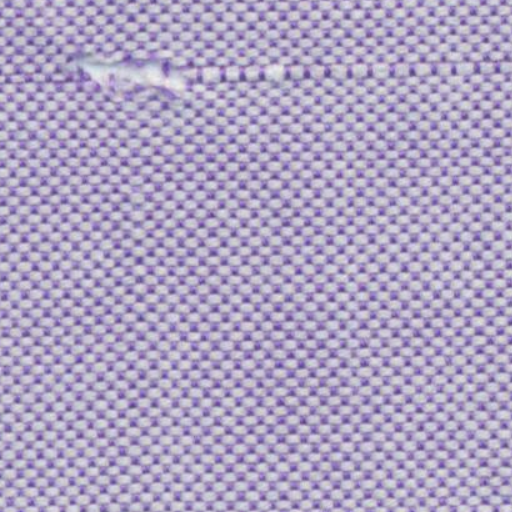PoDong: (57, 34, 197, 126)
